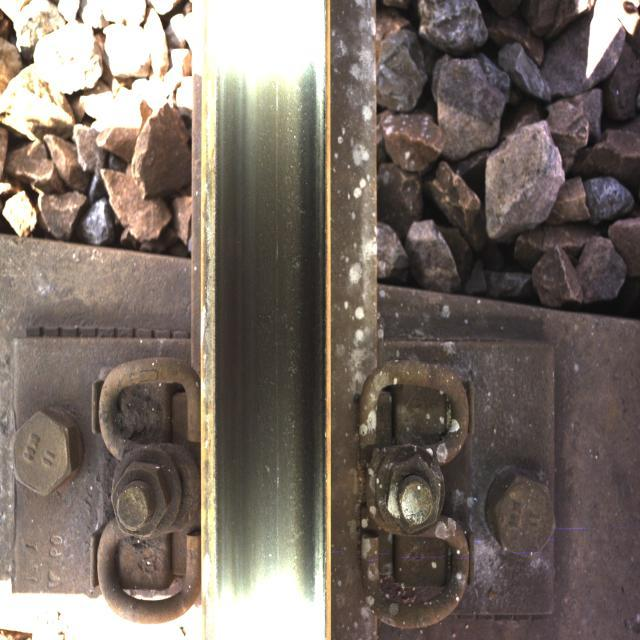break: (214, 34, 308, 615)
